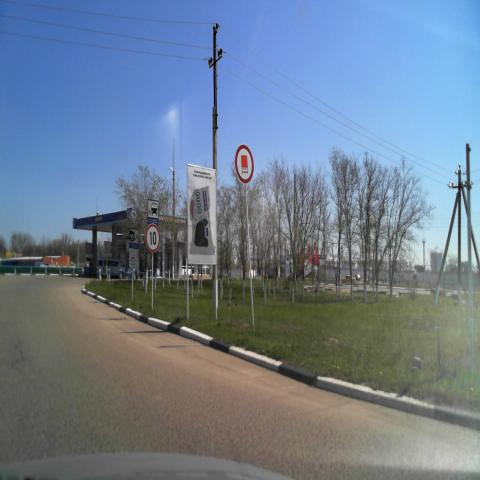3_32: (233, 143, 255, 185)
